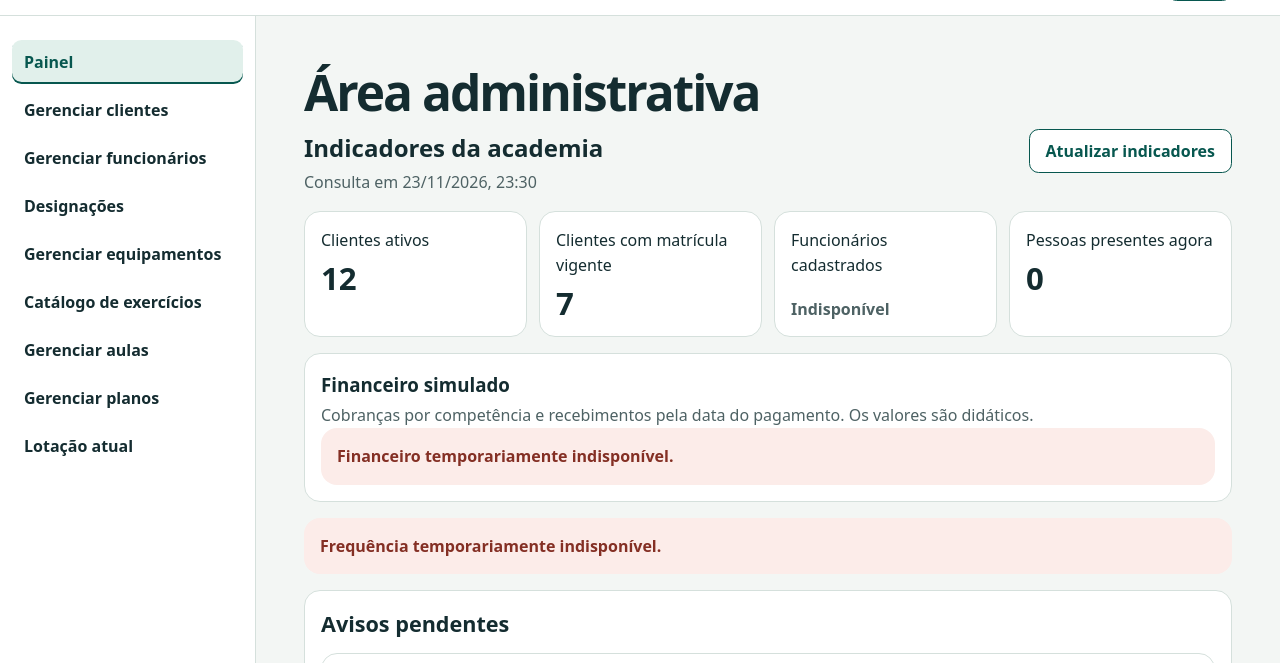
Test: preserva zeros e separa a falha de outros indicadores ao atualizar
Expected: the text "Frequência temporariamente indisponível." is shown, left=320, top=534, right=661, bottom=556
Expected: the text "Financeiro temporariamente indisponível." is shown, left=337, top=445, right=674, bottom=467
Click the button "Atualizar indicadores" at {"x": 1130, "y": 151}, box left=1028, top=129, right=1232, bottom=173
(page scrolled)
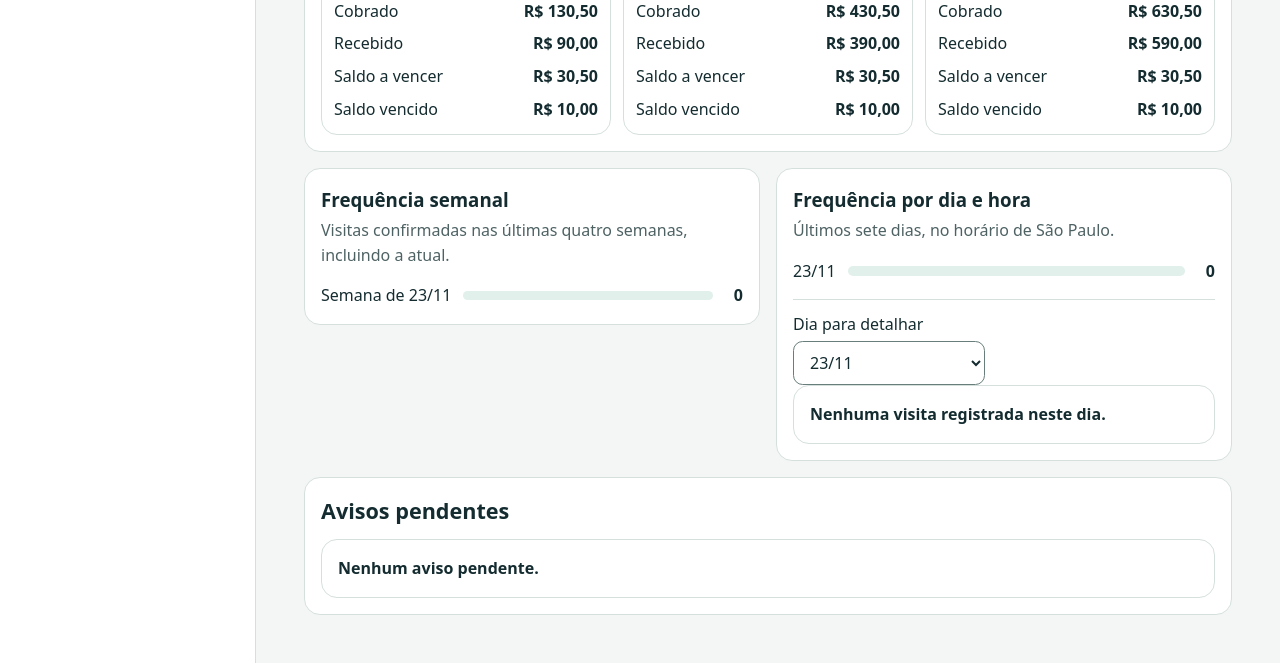
Expected: the text "Nenhuma visita registrada neste dia." is shown, left=810, top=403, right=1106, bottom=425
